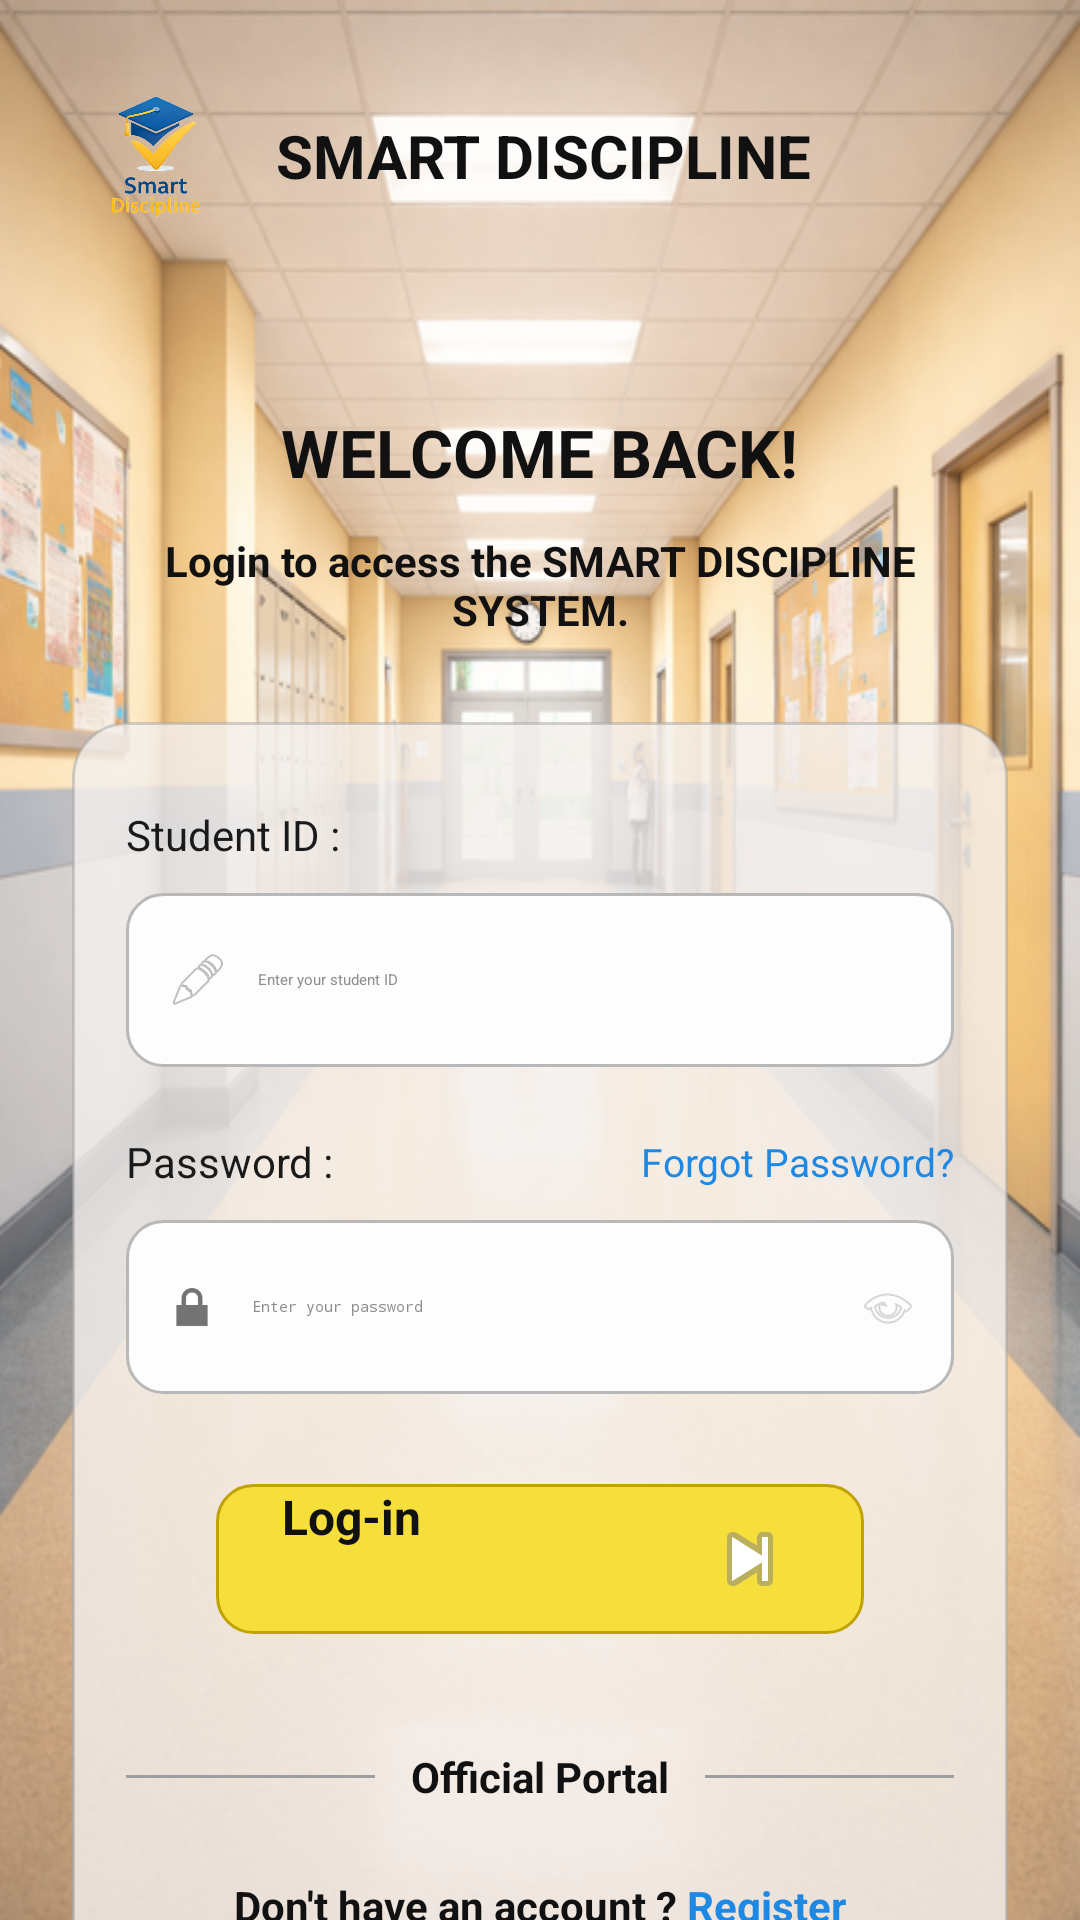

Screen size 1080 × 1920. Icon name, then its center in pixels as (x,y):
Show password: (888,1308)
